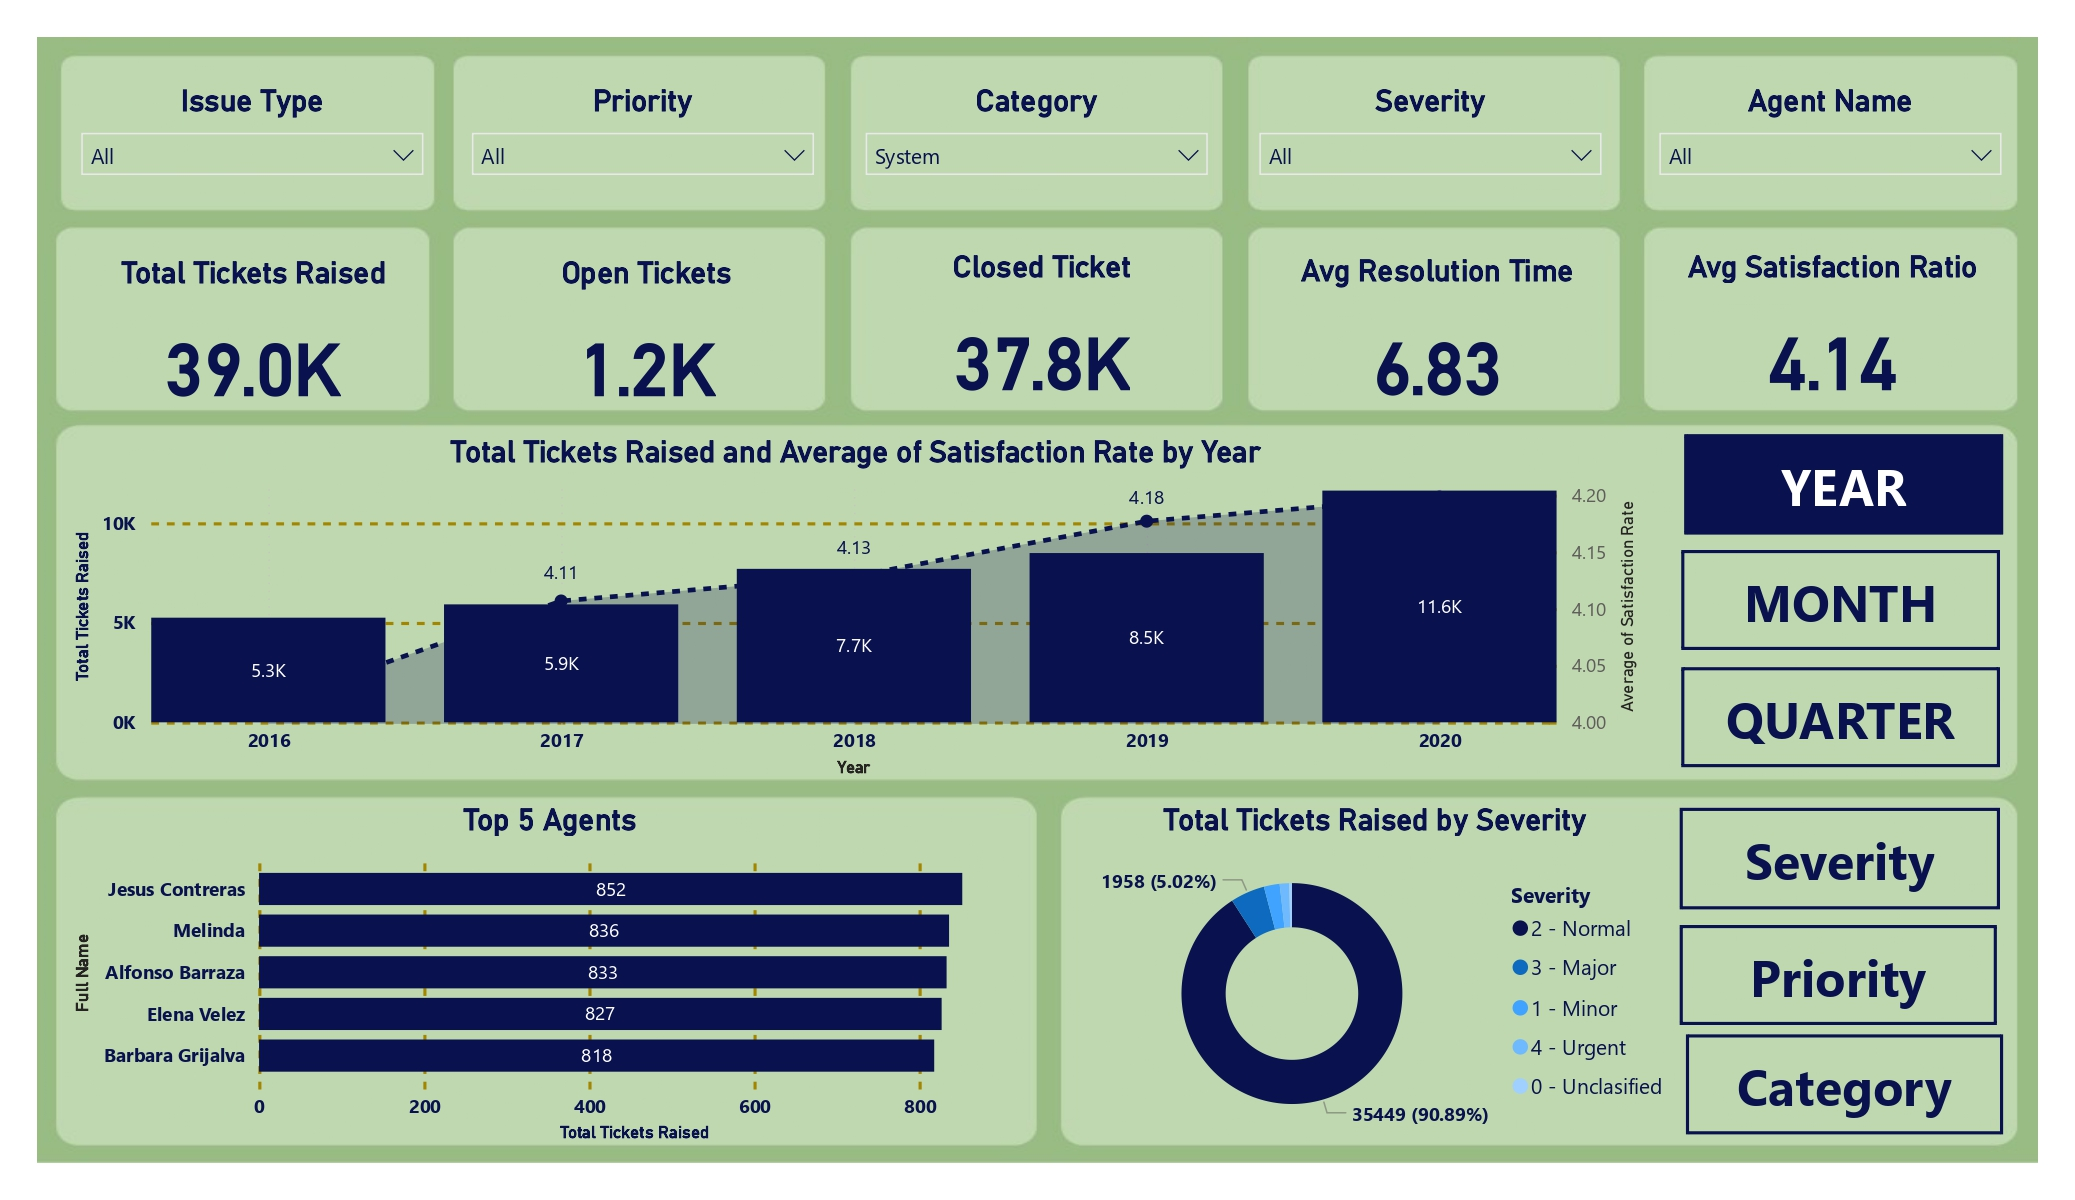

The dashboard page shown, as its layout file describes it:
{"tool":"powerbi","page":{"name":"Overview(yearly)","canvas":[1280,720],"ordinal":0},"visuals":[{"type":"slicer","title":"Issue Type","fields":{"Values":["Tickets1.Issue Type"]},"box":[18.1,29,238.9,71.2],"z":0},{"type":"slicer","title":"Category","fields":{"Values":["Tickets1.Request Category"]},"box":[520,29,238.9,71.2],"z":1000},{"type":"slicer","title":"Severity","fields":{"Values":["Tickets1.Severity"]},"box":[772.1,29,238.9,71.2],"z":2000},{"type":"slicer","title":"Agent Name","fields":{"Values":["IT_Agents.Full Name"]},"box":[1027.9,29,238.9,71.2],"z":3000},{"type":"slicer","title":"Priority","fields":{"Values":["Tickets1.Priority"]},"box":[267.8,29,238.9,71.2],"z":4000},{"type":"cardVisual","title":"Total Tickets Raised","fields":{"Data":["_Measures.Total Tickets Raised"]},"box":[17.5,138.8,240,112.5],"z":5000},{"type":"cardVisual","title":"Open Tickets","fields":{"Data":["_Measures.Total Tickets Raised"]},"box":[270.3,138.8,240,97.5],"z":6000},{"type":"cardVisual","title":"Closed Ticket","fields":{"Data":["_Measures.Total Tickets Raised"]},"box":[523.1,135,240,97.5],"z":7000},{"type":"cardVisual","title":"Avg Resolution Time","fields":{"Data":["Avg(Tickets1.Resolution Time (Days))"]},"box":[775.9,137.5,240,103.8],"z":8000},{"type":"cardVisual","title":"Avg Satisfaction Ratio","fields":{"Data":["Avg(Tickets1.Satisfaction Rate)"]},"box":[1028.8,135,240,105],"z":9000},{"type":"clusteredBarChart","title":"Top 5 Agents","fields":{"Y":["_Measures.Total Tickets Raised"],"Category":["IT_Agents.Full Name"]},"box":[17.8,488.5,620.2,223.7],"z":11000},{"type":"donutChart","fields":{"Category":["Tickets1.Severity"],"Y":["_Measures.Total Tickets Raised"]},"box":[657.5,488.8,396.2,223.8],"z":12000},{"type":"actionButton","title":"Month Enable","box":[1055,327.5,203.8,63.8],"z":14000},{"type":"lineClusteredColumnComboChart","title":"Total Tickets Raised and Average of Satisfaction Rate by Month","fields":{"Category":["Tickets1.Date.Variation.Date Hierarchy.Month"],"Y":["_Measures.Total Tickets Raised"],"Y2":["Avg(Tickets1.Satisfaction Rate)"]},"box":[15,253.8,1010,223.8],"z":17000},{"type":"actionButton","title":"Year Disable","box":[1053.3,251.7,205,65],"z":23000},{"type":"actionButton","title":"Quarter Disable","box":[1052.3,403.3,203.3,63.3],"z":25000},{"type":"actionButton","title":"Severity Disable","box":[941.4,535.7,205.7,65.7],"z":26000},{"type":"actionButton","title":"Priority  Disable","box":[1050.7,568.3,203.3,63.3],"z":27000},{"type":"actionButton","title":"Category Disable","box":[1055,638.3,203.3,63.3],"z":28000}]}

Visuals, with their boxes on the page's 1280x720 design canvas (x1, y1, x2, y2). These are canvas units, not pixel positions in the 2075x1200 screenshot, which may show the page scaled, cropped or inside an application window:
"Issue Type" slicer: <bbox>18, 29, 257, 100</bbox>
"Category" slicer: <bbox>520, 29, 759, 100</bbox>
"Severity" slicer: <bbox>772, 29, 1011, 100</bbox>
"Agent Name" slicer: <bbox>1028, 29, 1267, 100</bbox>
"Priority" slicer: <bbox>268, 29, 507, 100</bbox>
"Total Tickets Raised" cardVisual: <bbox>18, 139, 258, 251</bbox>
"Open Tickets" cardVisual: <bbox>270, 139, 510, 236</bbox>
"Closed Ticket" cardVisual: <bbox>523, 135, 763, 232</bbox>
"Avg Resolution Time" cardVisual: <bbox>776, 138, 1016, 241</bbox>
"Avg Satisfaction Ratio" cardVisual: <bbox>1029, 135, 1269, 240</bbox>
"Top 5 Agents" clusteredBarChart: <bbox>18, 488, 638, 712</bbox>
donutChart - Tickets1.Severity x _Measures.Total Tickets Raised: <bbox>658, 489, 1054, 713</bbox>
"Month Enable" actionButton: <bbox>1055, 328, 1259, 391</bbox>
"Total Tickets Raised and Average of Satisfaction Rate by Month" lineClusteredColumnComboChart: <bbox>15, 254, 1025, 478</bbox>
"Year Disable" actionButton: <bbox>1053, 252, 1258, 317</bbox>
"Quarter Disable" actionButton: <bbox>1052, 403, 1256, 467</bbox>
"Severity Disable" actionButton: <bbox>941, 536, 1147, 601</bbox>
"Priority  Disable" actionButton: <bbox>1051, 568, 1254, 632</bbox>
"Category Disable" actionButton: <bbox>1055, 638, 1258, 702</bbox>
